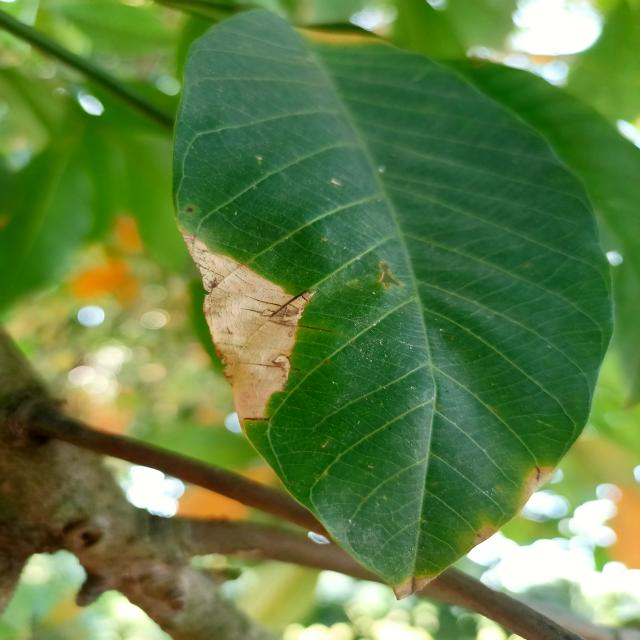Leaf-Blight: (181, 234, 314, 433), (519, 465, 558, 508), (393, 575, 436, 600), (473, 525, 496, 547)
